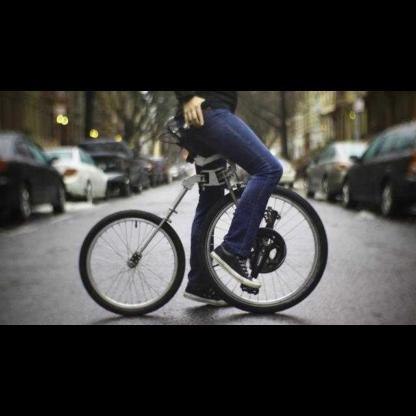Bicycle: (61, 111, 335, 318)
